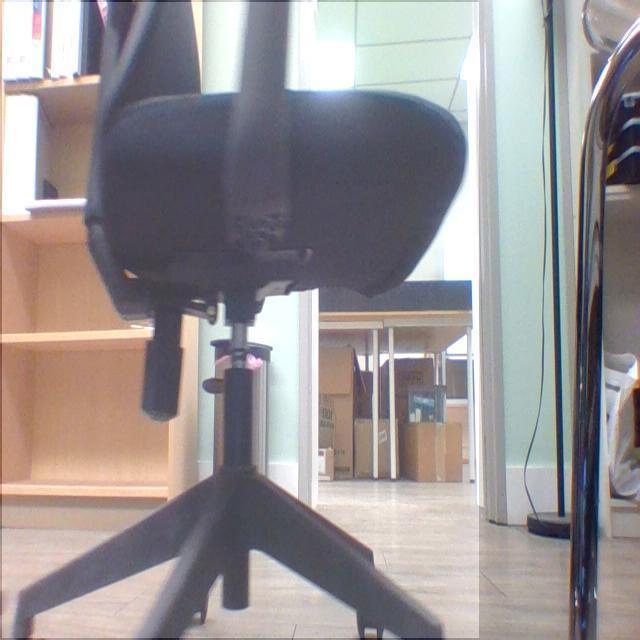chair: (11, 1, 466, 640)
